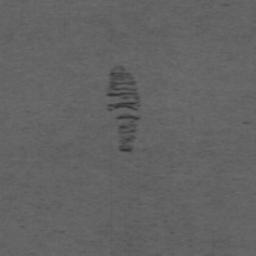Secondary rust skin: (106, 66, 140, 112), (115, 114, 141, 153)
